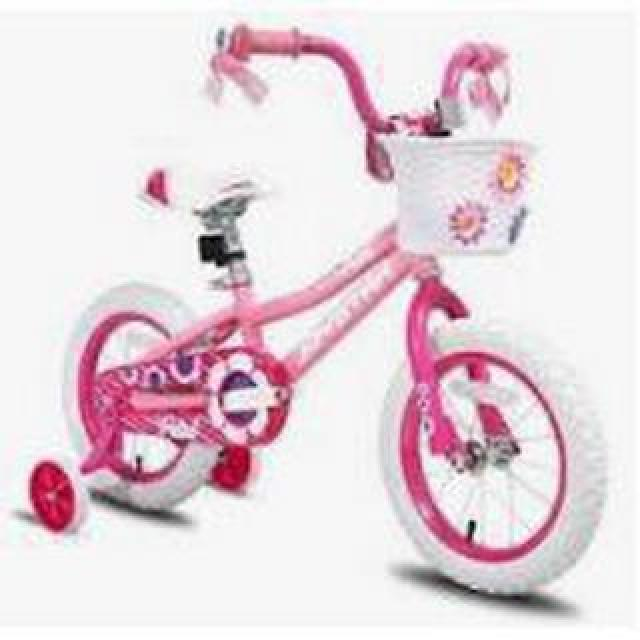Person: (18, 30, 606, 596)
